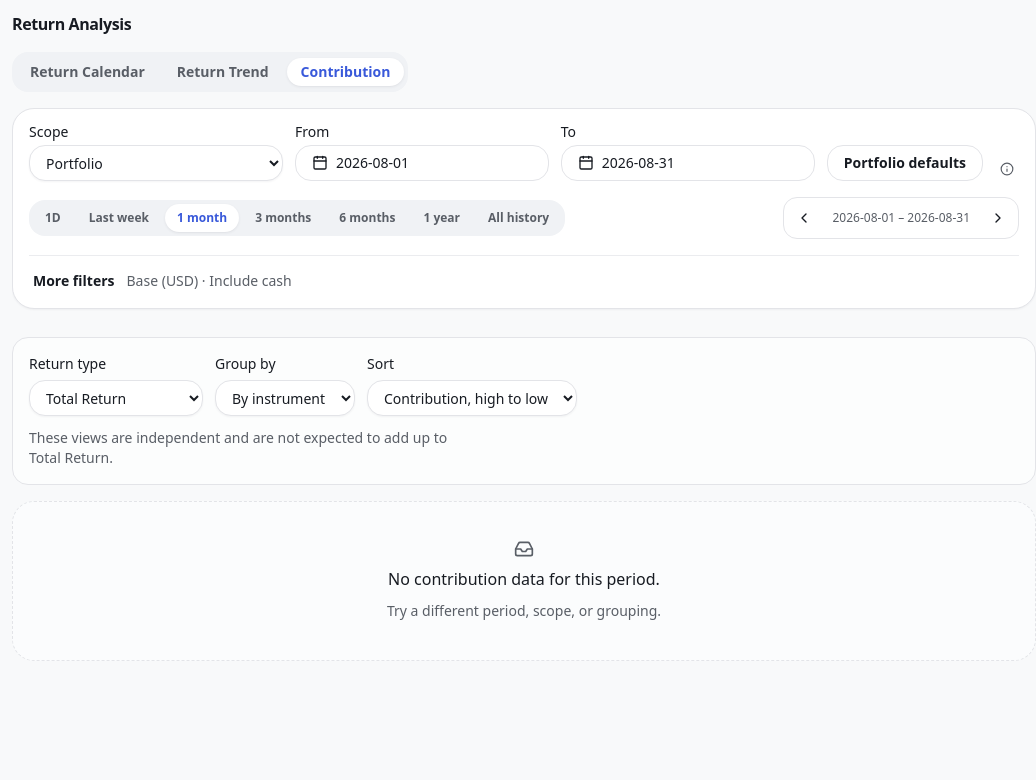
Test: ReturnAnalysisPage › normalizes grouping and sorting when retained contribution switches to realized
Select "By currency" in the dropdown labelled "Group by" at [285, 398], box x1=215 y1=380 x2=355 y2=416
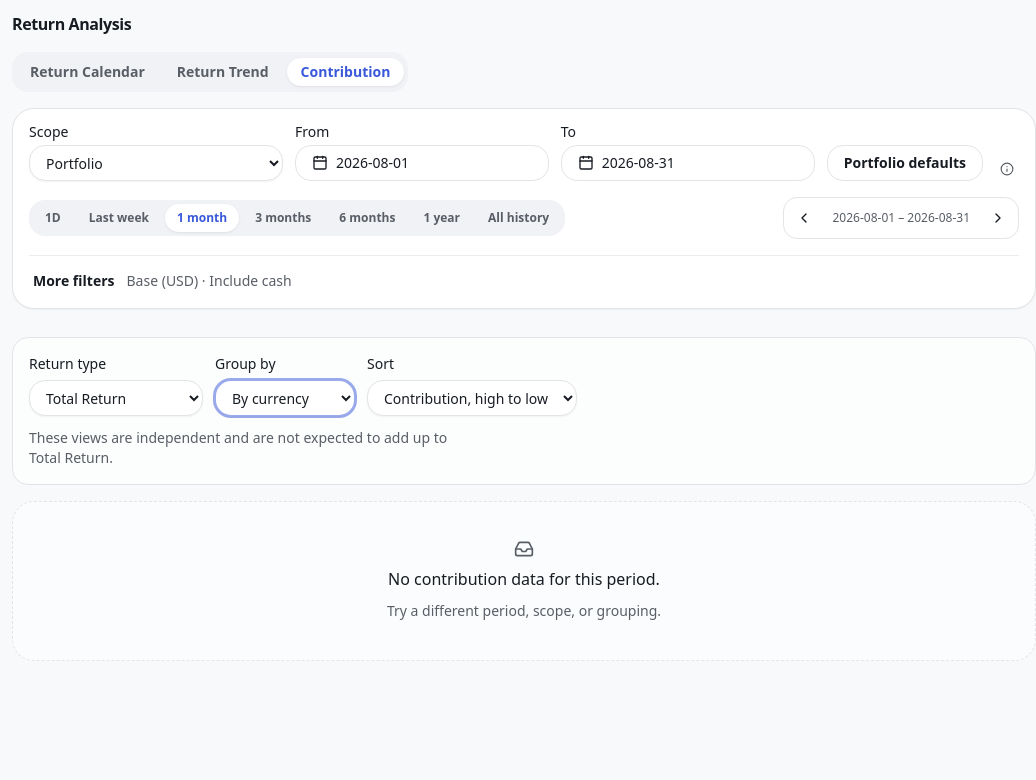
Select "Return rate, high to low" in the dropdown labelled "Sort" at [472, 398], box x1=367 y1=380 x2=577 y2=416
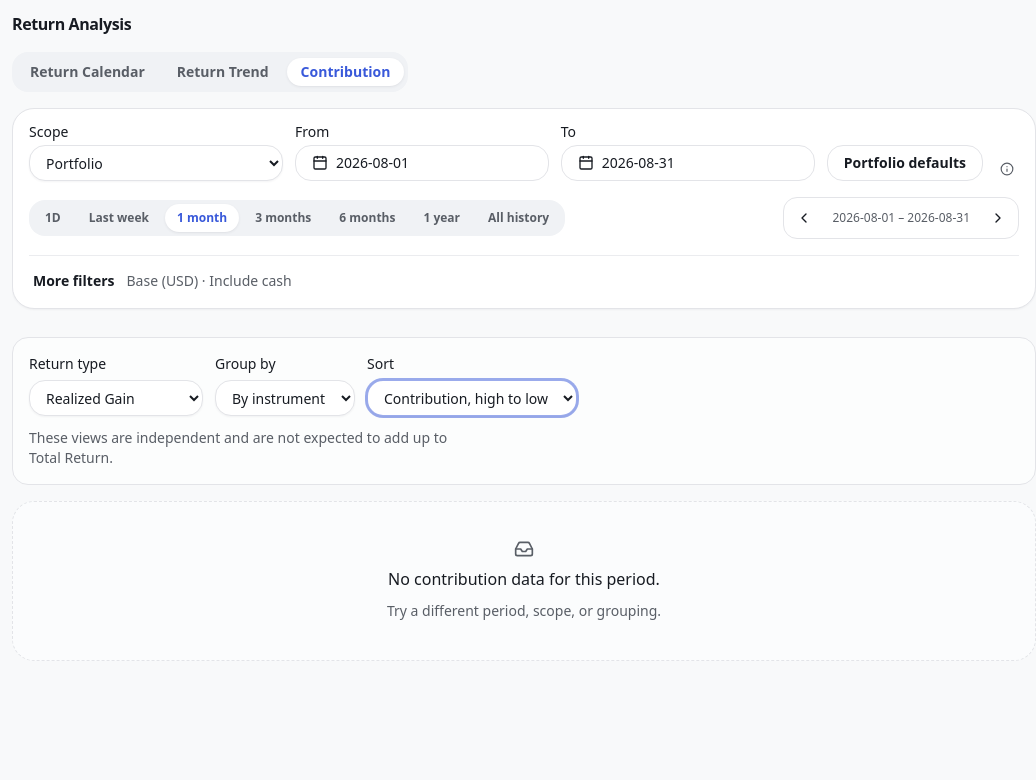
Now the dropdown labelled "Return type" shows "Realized Gain", box x1=29 y1=380 x2=203 y2=416
